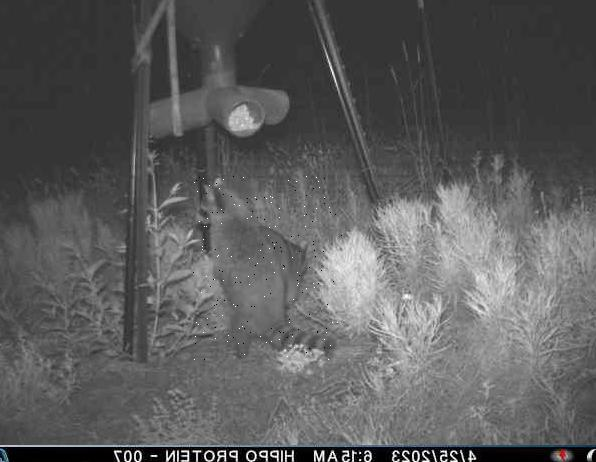Raccoon: (193, 176, 342, 360), (252, 221, 311, 313)
